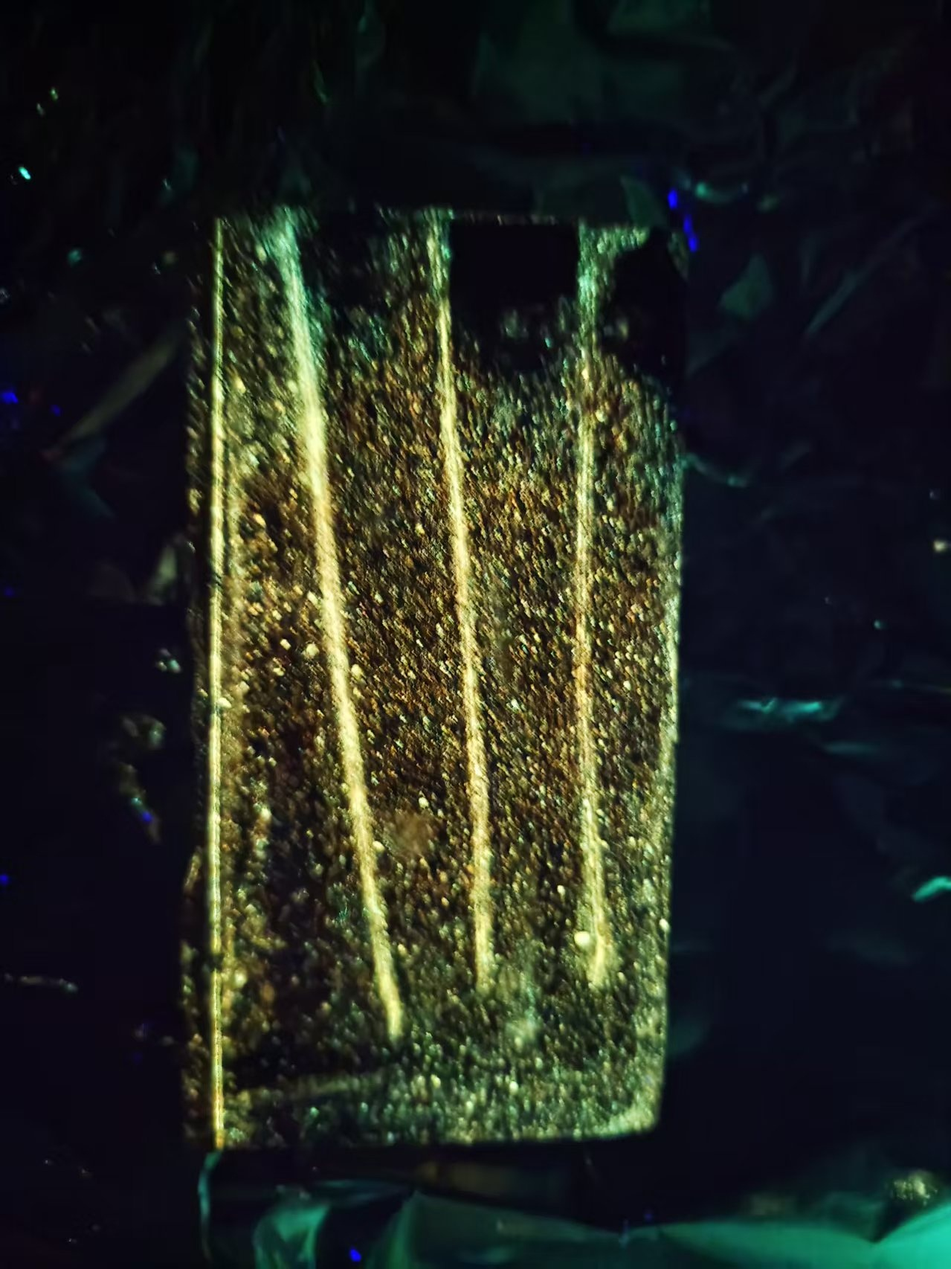Fissure: (259, 214, 417, 1038), (413, 204, 519, 1015), (565, 216, 623, 999)
